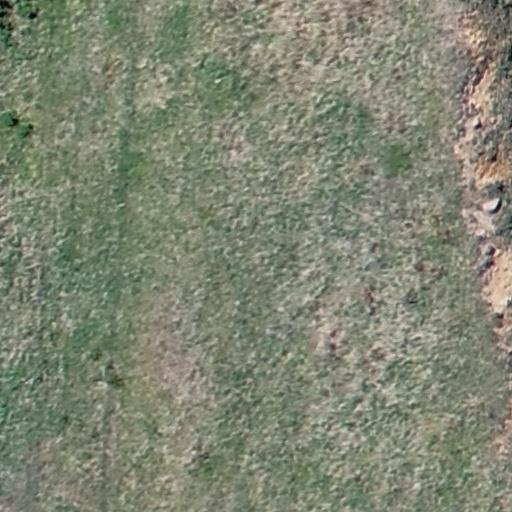stone: (477, 197, 503, 215)
